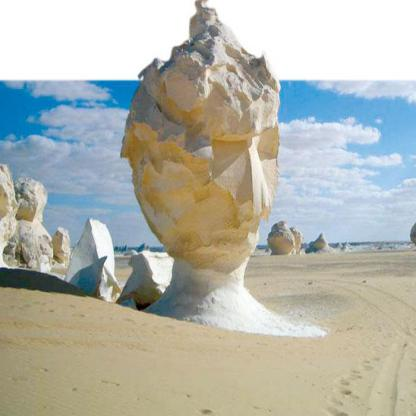Sedimentary_Chalk: (160, 48, 270, 271), (3, 182, 47, 262), (79, 230, 111, 292)
